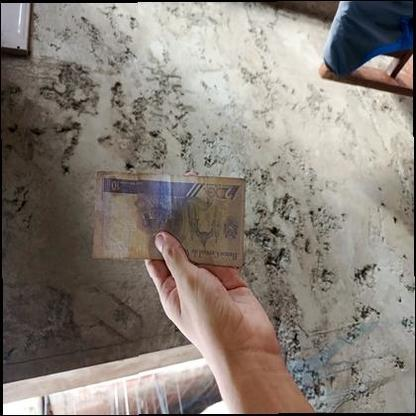ten-back-vef: (93, 171, 246, 268)
